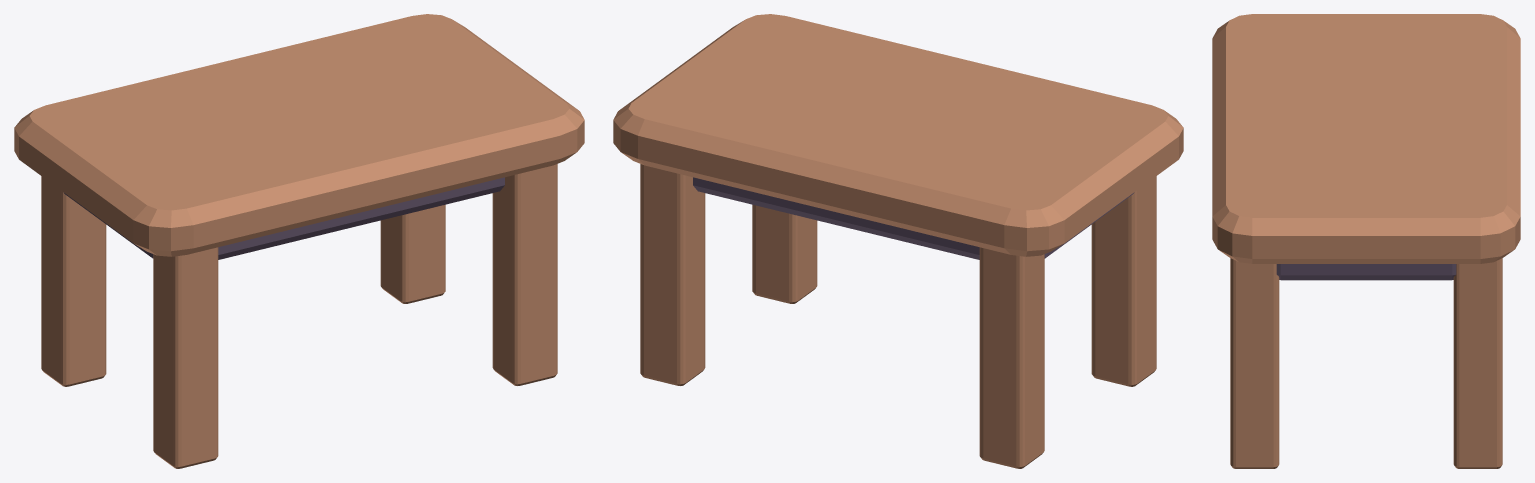
The model's file is packing_table.glb.
3 renders of one model, left to right at view 1: azimuth 30°, elevation 25°; view 2: azimuth 150°, elevation 25°; view 3: azimuth 270°, elevation 25°, orthographic.
Parts seen in each view (by area): view 1: work_surface, leg, model; view 2: work_surface, leg, model; view 3: work_surface, leg, model.
Part boxes in pixels (bbox=[...]): work_surface: bbox=[14, 14, 584, 256]; leg: bbox=[41, 164, 557, 468]; model: bbox=[63, 177, 504, 259]; work_surface: bbox=[613, 14, 1183, 256]; leg: bbox=[640, 164, 1156, 468]; model: bbox=[693, 177, 1134, 259]; work_surface: bbox=[1212, 14, 1520, 263]; leg: bbox=[1230, 258, 1502, 468]; model: bbox=[1276, 264, 1456, 280].
Bounding box in the file's own units: 1.25 × 0.7 × 0.75.
